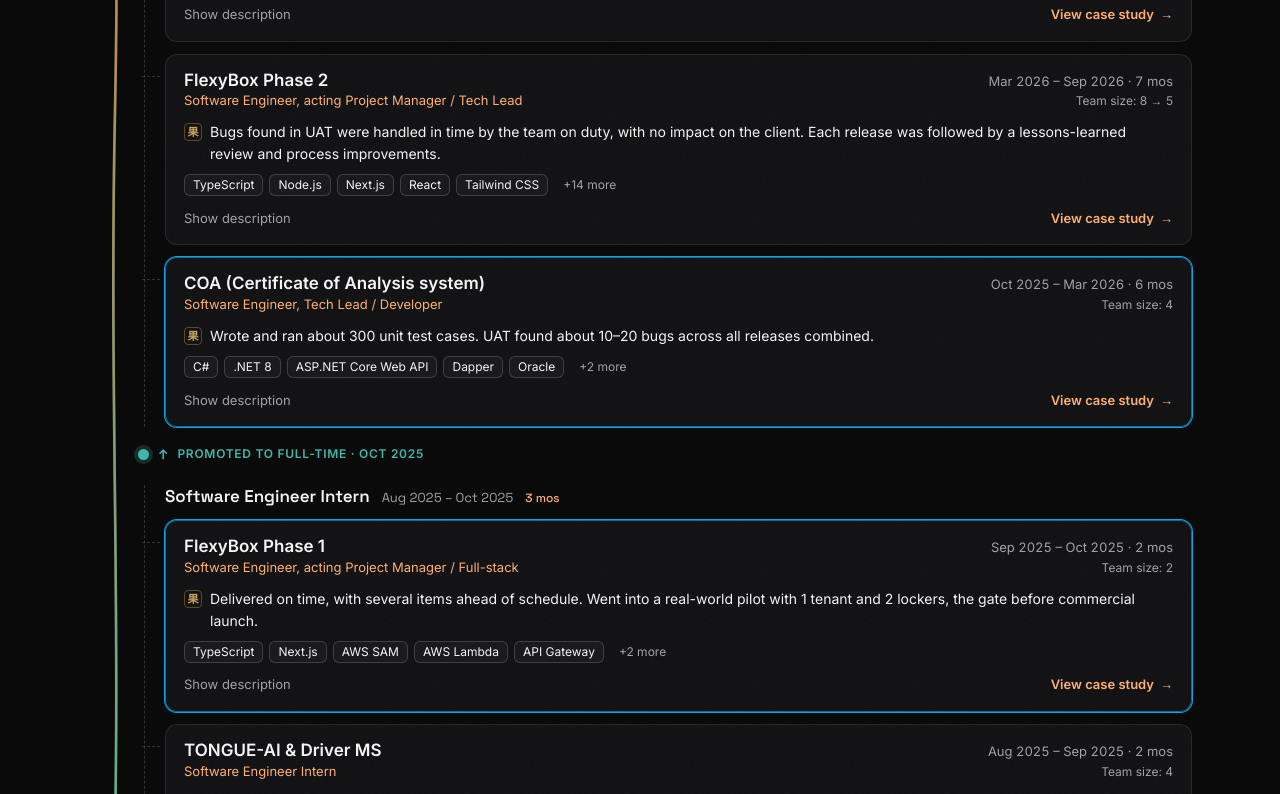
Scenario: Experience journey tree › description disclosure keeps text in the DOM
(page scrolled)
Click the button named "Show description: COA (Certificate of Analysis system)" at (237, 400), box [184,388,291,412]
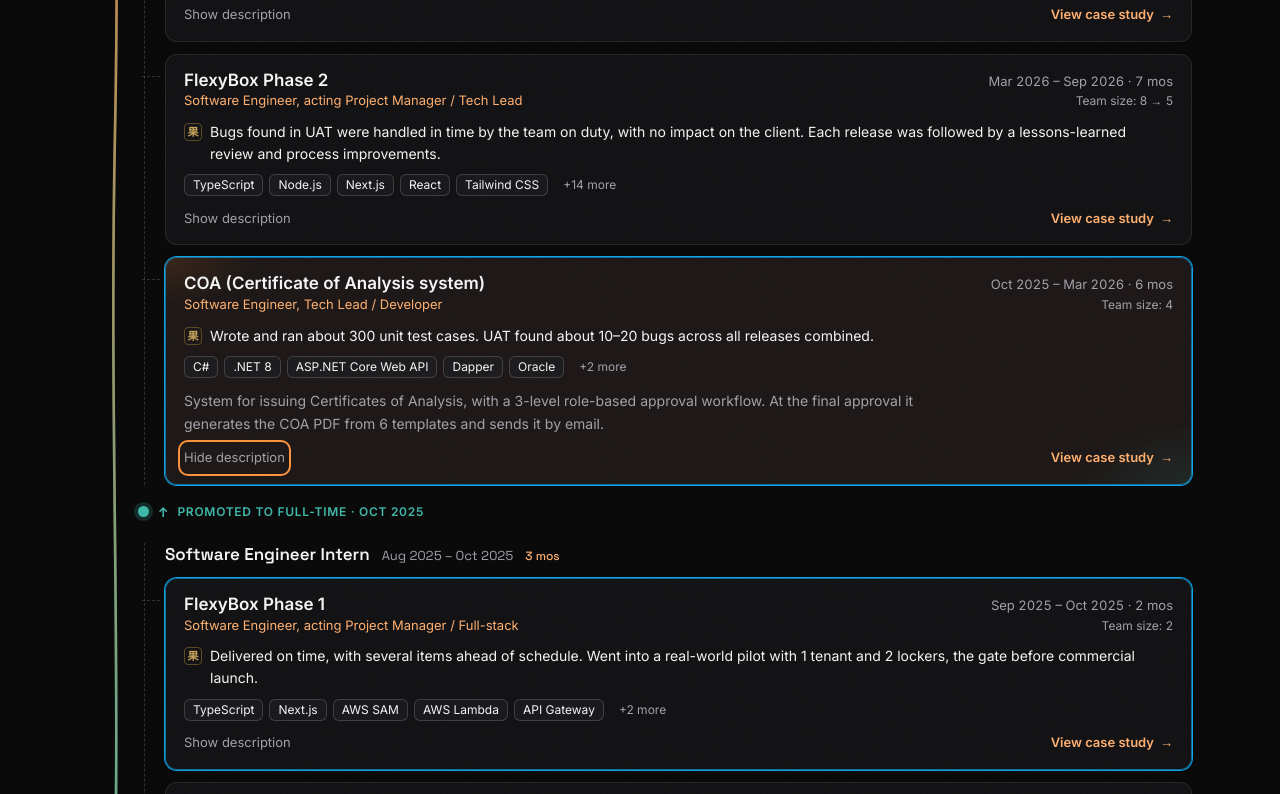
Now the button named "Show description: COA (Certificate of Analysis system)" is expanded
Now the button named "Show description: COA (Certificate of Analysis system)" reads "Hide description"
Click the button named "Show description: COA (Certificate of Analysis system)" at (234, 458), box [184,446,285,470]
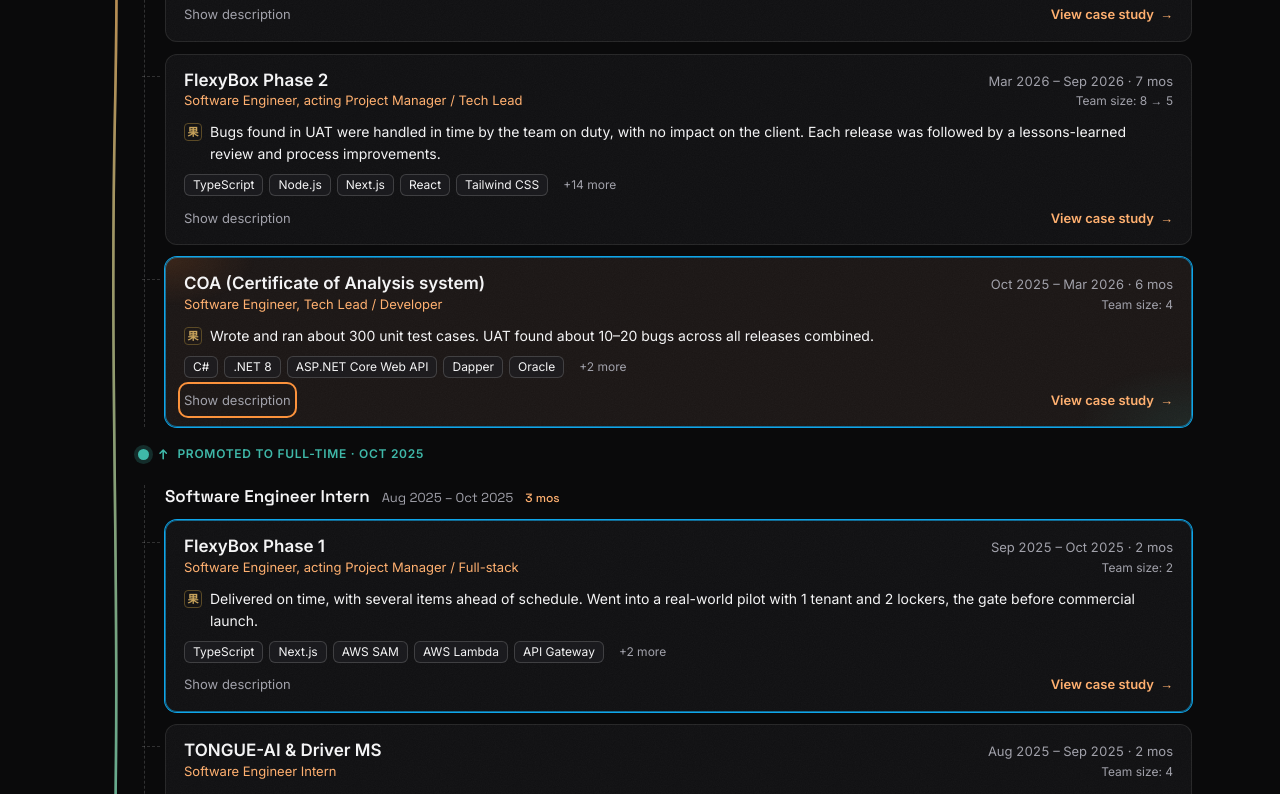
Now the button named "Show description: COA (Certificate of Analysis system)" is collapsed, box [184,388,291,412]
